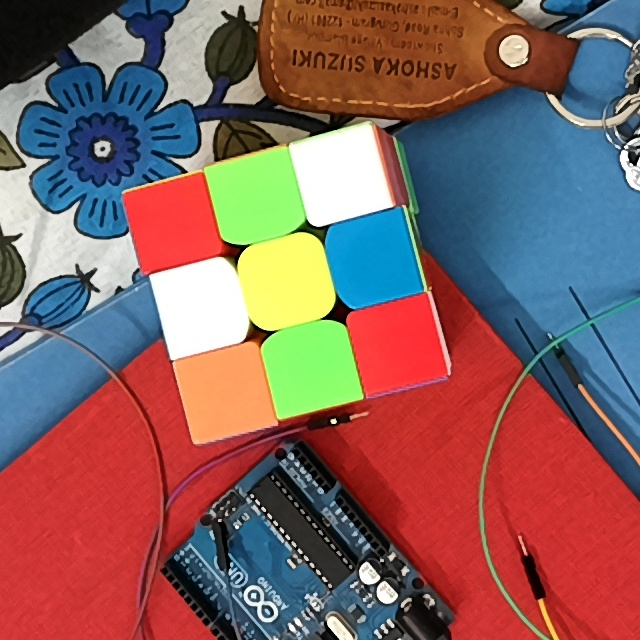tile: (191, 359, 259, 428), (139, 189, 207, 255), (337, 226, 403, 294), (255, 249, 321, 315), (278, 335, 344, 400), (305, 142, 373, 205), (366, 312, 431, 377), (223, 166, 288, 230), (169, 275, 232, 339)
